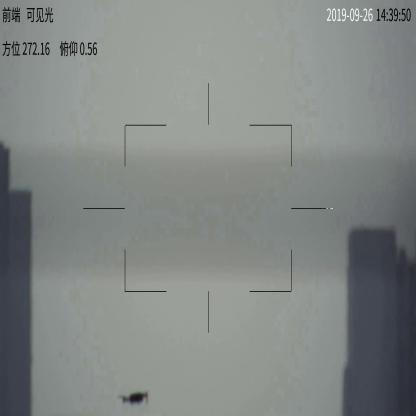uav: (117, 388, 150, 404)
